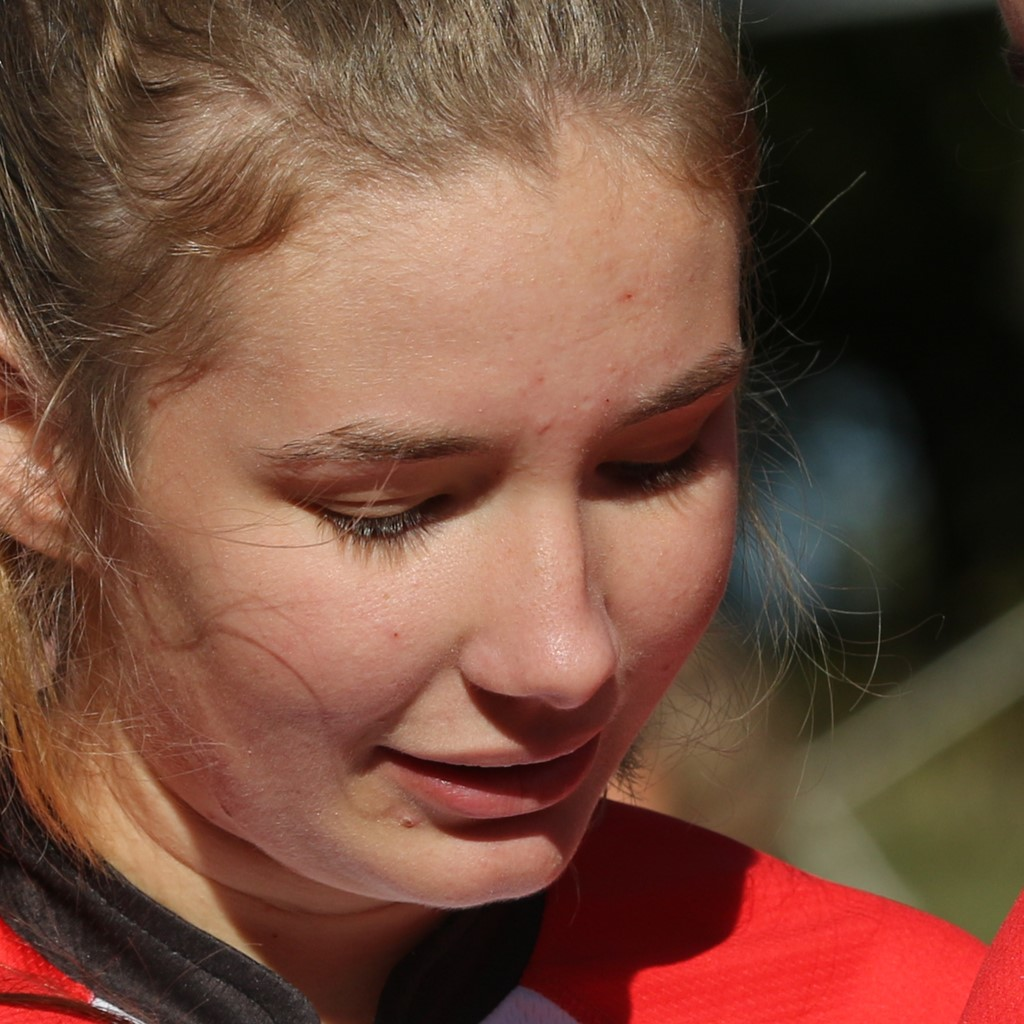sin_mascara: (56, 55, 744, 934)
